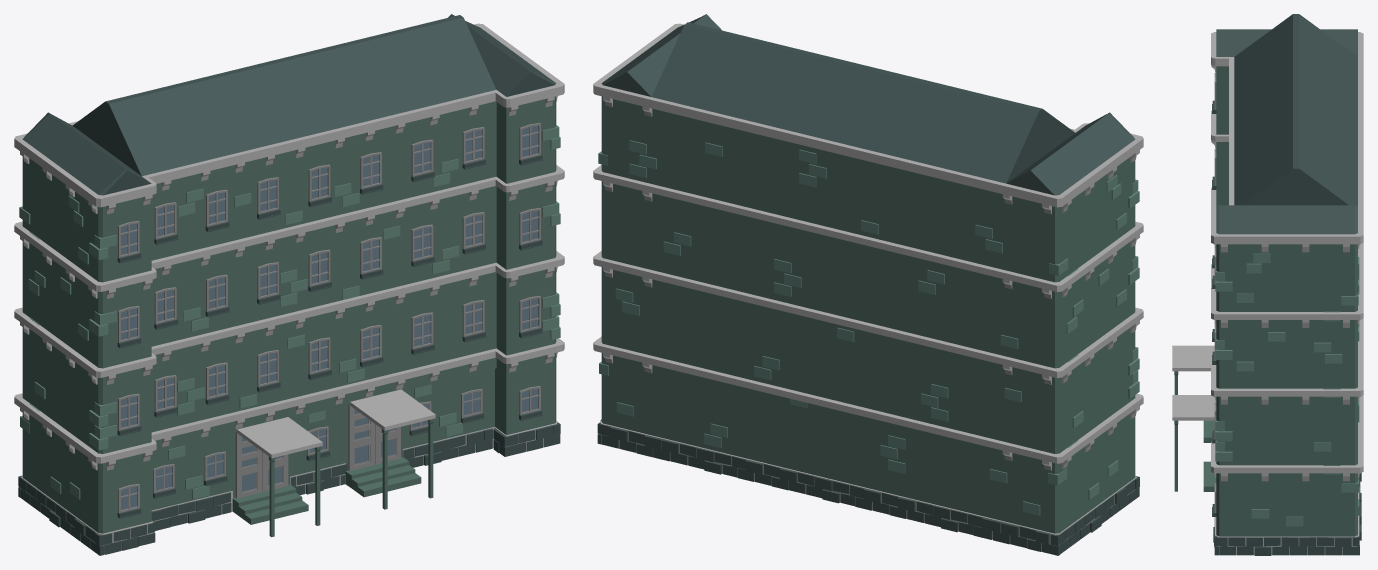
File: 4Story_Wide_2Doors_Roof_Mat.glb
3 views of the same model, side by side, from view 1: azimuth 30°, elevation 25°; view 2: azimuth 150°, elevation 25°; view 3: azimuth 270°, elevation 25° (orthographic). The views are drawn at different scales.
Parts seen in each view (by area): view 1: 4Story_Wide_2Doors_Roof_Mat; view 2: 4Story_Wide_2Doors_Roof_Mat; view 3: 4Story_Wide_2Doors_Roof_Mat.
Part boxes in pixels (<box>): 4Story_Wide_2Doors_Roof_Mat: <box>14,14,564,555</box>; 4Story_Wide_2Doors_Roof_Mat: <box>593,14,1143,555</box>; 4Story_Wide_2Doors_Roof_Mat: <box>1172,14,1363,555</box>.
Bounding box in the file's own units: 6.83 × 5.68 × 2.7.
